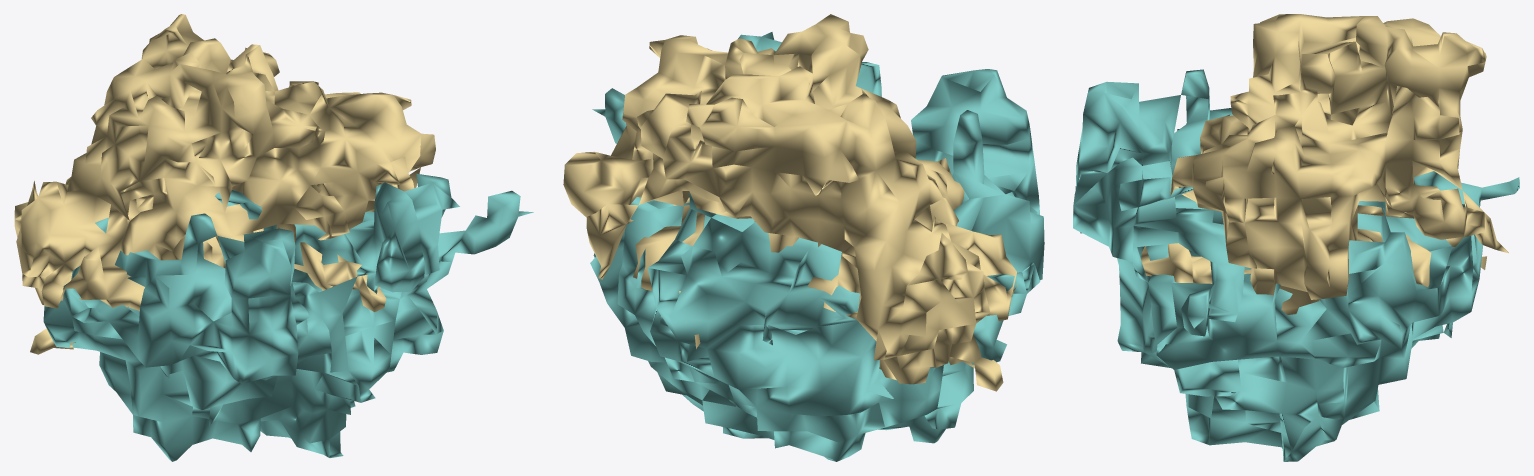
Rendered from ribosome.glb.
3 views of the same model, side by side, from view 1: azimuth 30°, elevation 25°; view 2: azimuth 150°, elevation 25°; view 3: azimuth 270°, elevation 25° (orthographic). The views are drawn at different scales.
Visible parts, largest first — view 1: large_subunit, small_subunit; view 2: small_subunit, large_subunit; view 3: large_subunit, small_subunit.
Boxes of the visible parts, x1,y1,x2,y2 form: large_subunit: [43, 173, 533, 461]; small_subunit: [14, 14, 435, 354]; small_subunit: [563, 14, 1017, 391]; large_subunit: [590, 32, 1044, 461]; large_subunit: [1073, 69, 1519, 461]; small_subunit: [1141, 14, 1508, 314].
Size of the model in its own units: 1.95 by 1.59 by 1.63.
